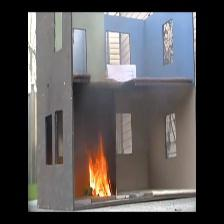fire: (86, 136, 112, 205)
